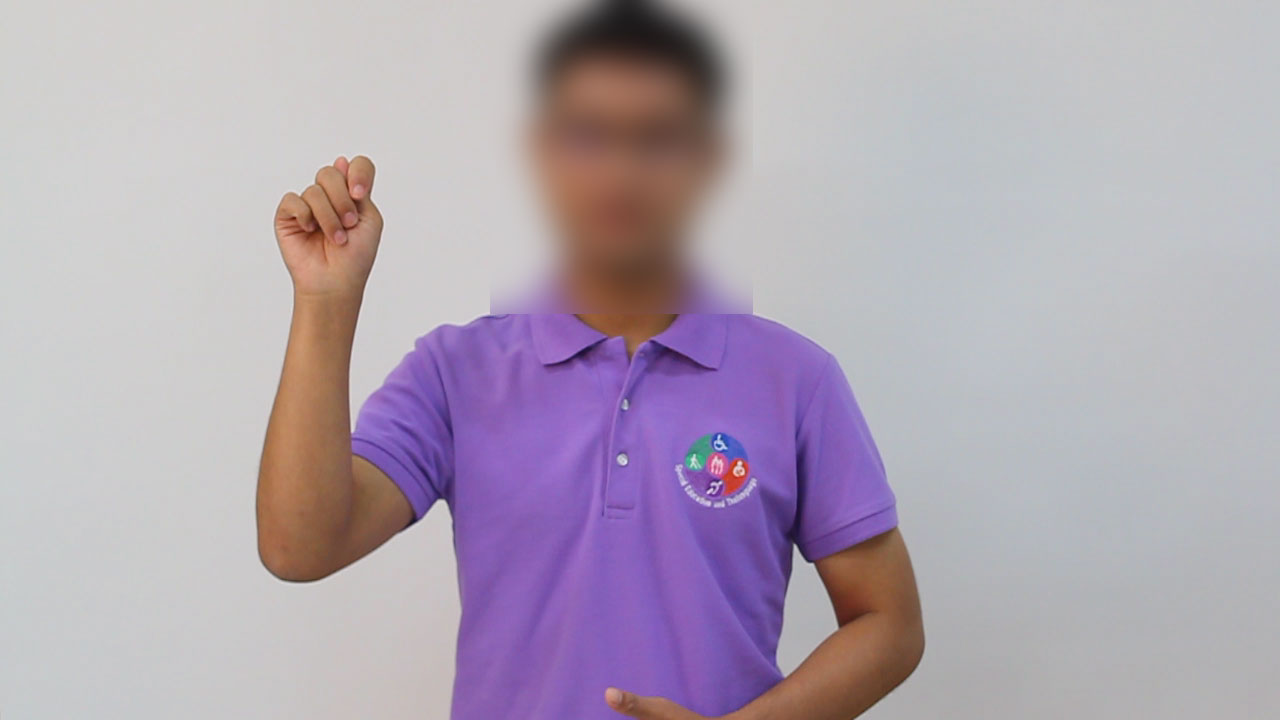tor: (251, 147, 406, 316)
